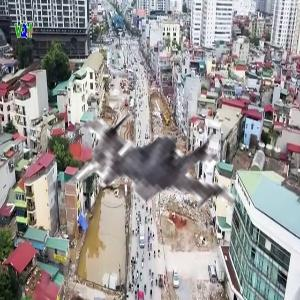drone: (55, 82, 251, 278)
